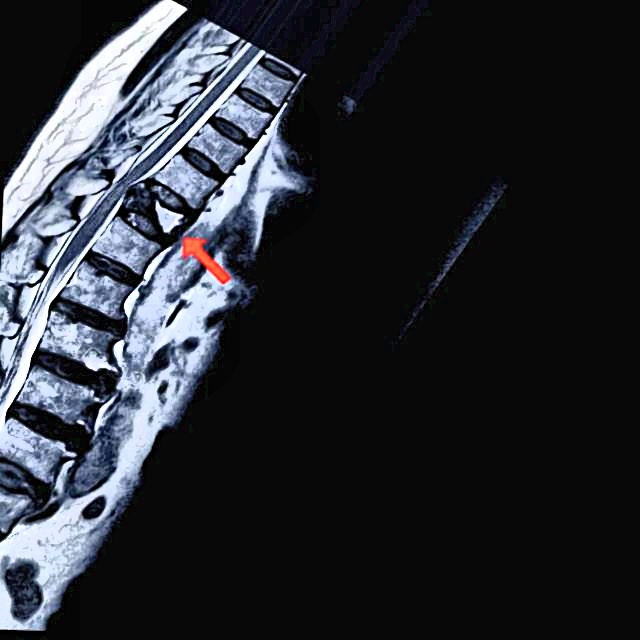Comminuted: (106, 172, 201, 249)
